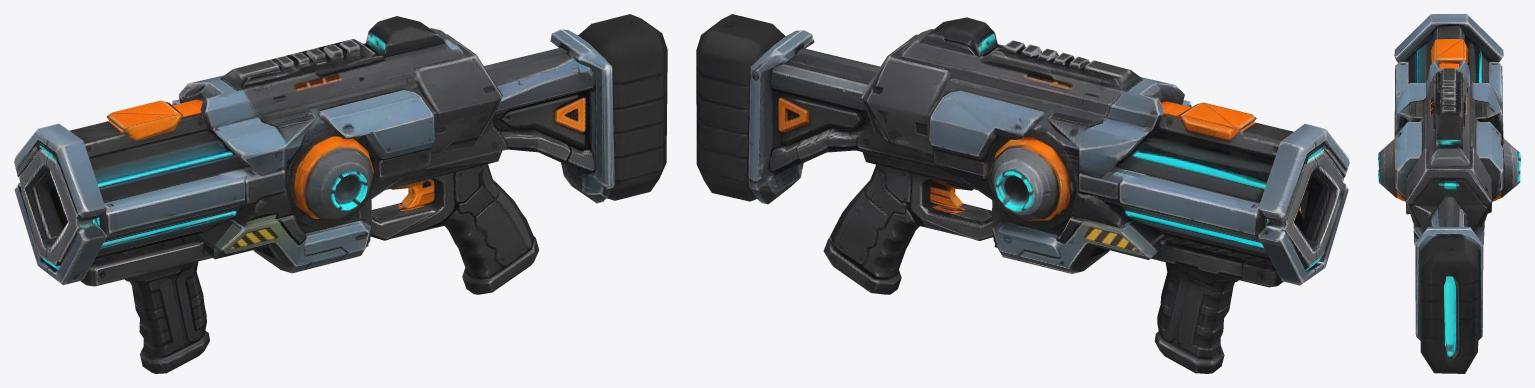
Rendered from ricochet_blaster.glb.
3 renders of one model, left to right at view 1: azimuth 30°, elevation 25°; view 2: azimuth 150°, elevation 25°; view 3: azimuth 270°, elevation 25°, orthographic. The views are drawn at different scales.
Visible parts, largest first — view 1: mesh_node; view 2: mesh_node; view 3: mesh_node.
Part boxes in pixels (<box>): mesh_node: <box>14,14,667,373</box>; mesh_node: <box>696,14,1349,373</box>; mesh_node: <box>1378,14,1520,373</box>.
Bounding box in the file's own units: 1 × 0.4581 × 0.2725.
Materials: 1 (1 with a texture image).
